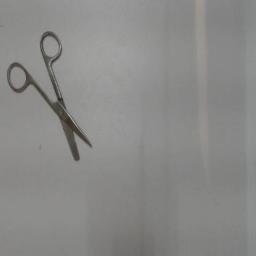Dressing Scissors: (3, 23, 99, 169)
